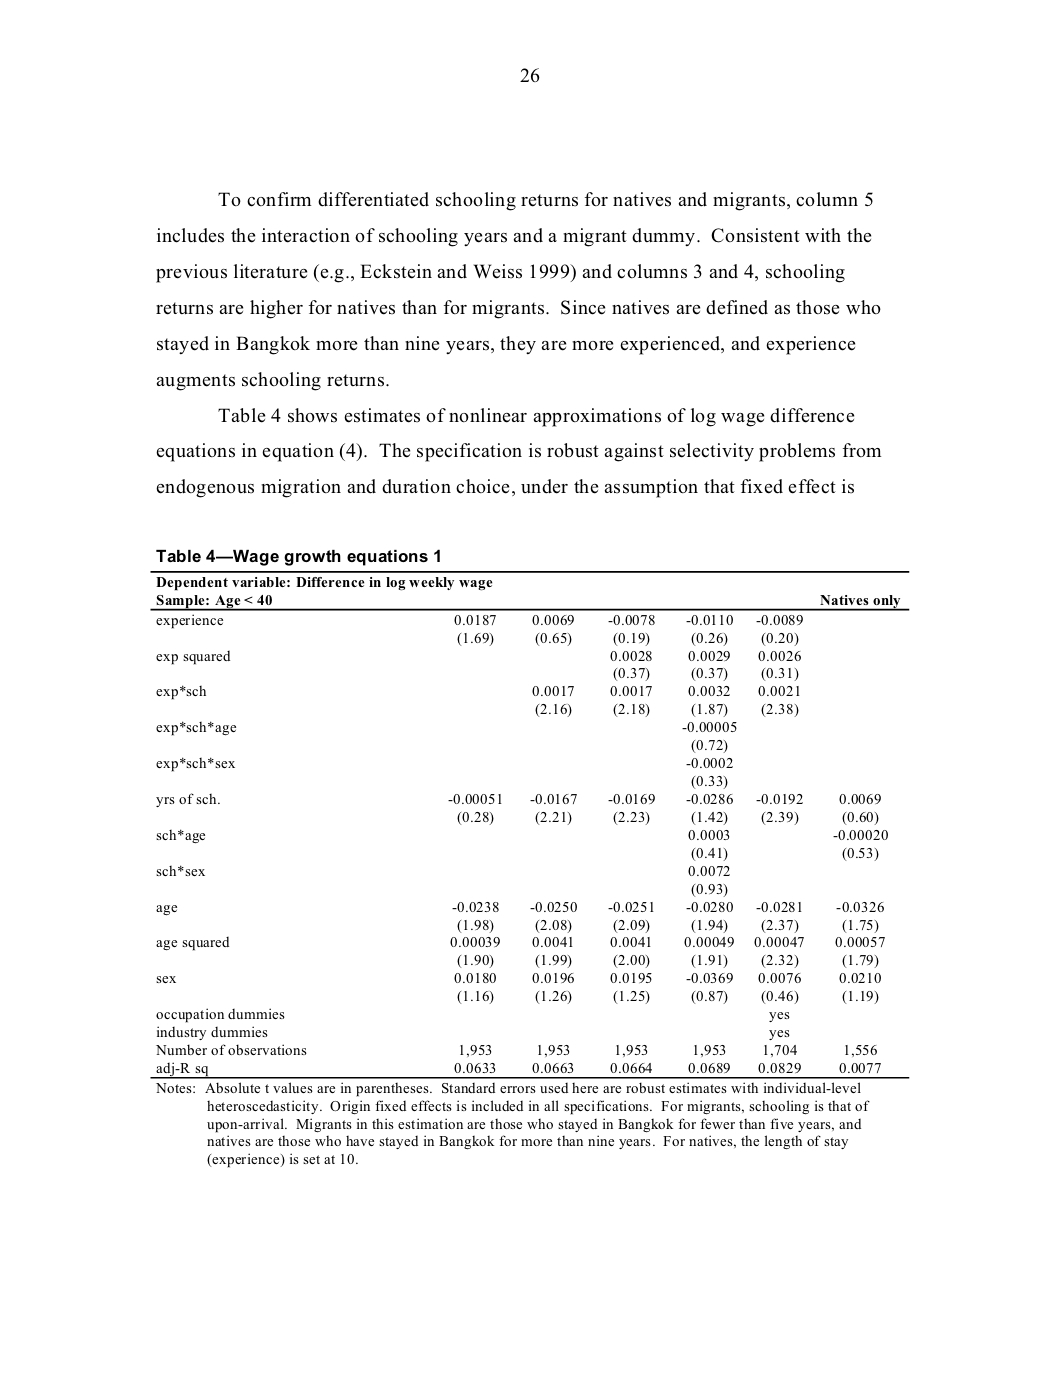Table: (150, 571, 909, 1078)
